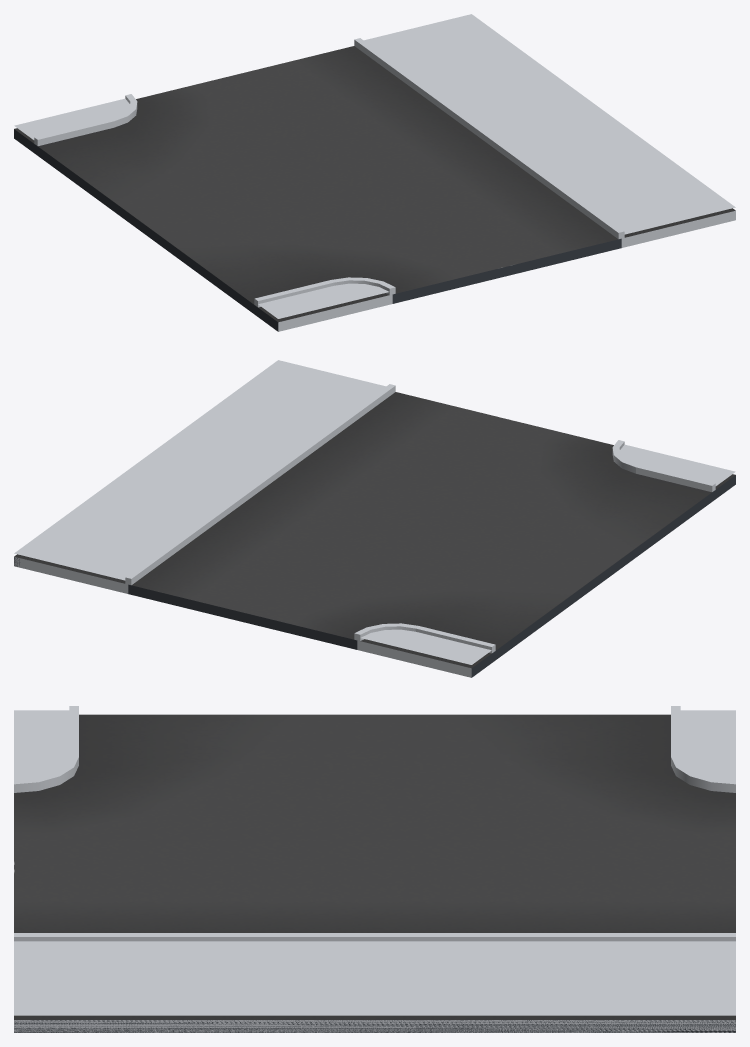
File: road_019_pacote.glb
3 renders of one model, top to bottom at view 1: azimuth 30°, elevation 25°; view 2: azimuth 150°, elevation 25°; view 3: azimuth 270°, elevation 25°, orthographic. The views are drawn at different scales.
Visible parts, largest first — view 1: road_019_pacote; view 2: road_019_pacote; view 3: road_019_pacote.
Boxes of the visible parts, box(x1,y1,x2,y2) form: road_019_pacote: box(14, 14, 735, 331); road_019_pacote: box(14, 360, 735, 677); road_019_pacote: box(14, 706, 735, 1032).
Bounding box in the file's own units: 15 × 0.5 × 15.
Materials: 2 (2 with a texture image).
